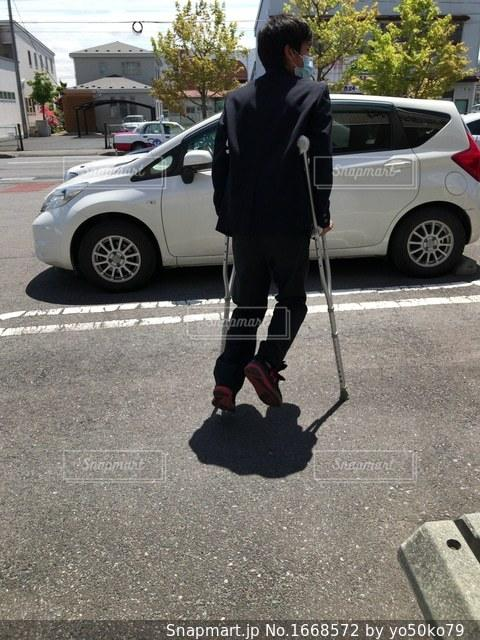crutches: (211, 13, 350, 411)
